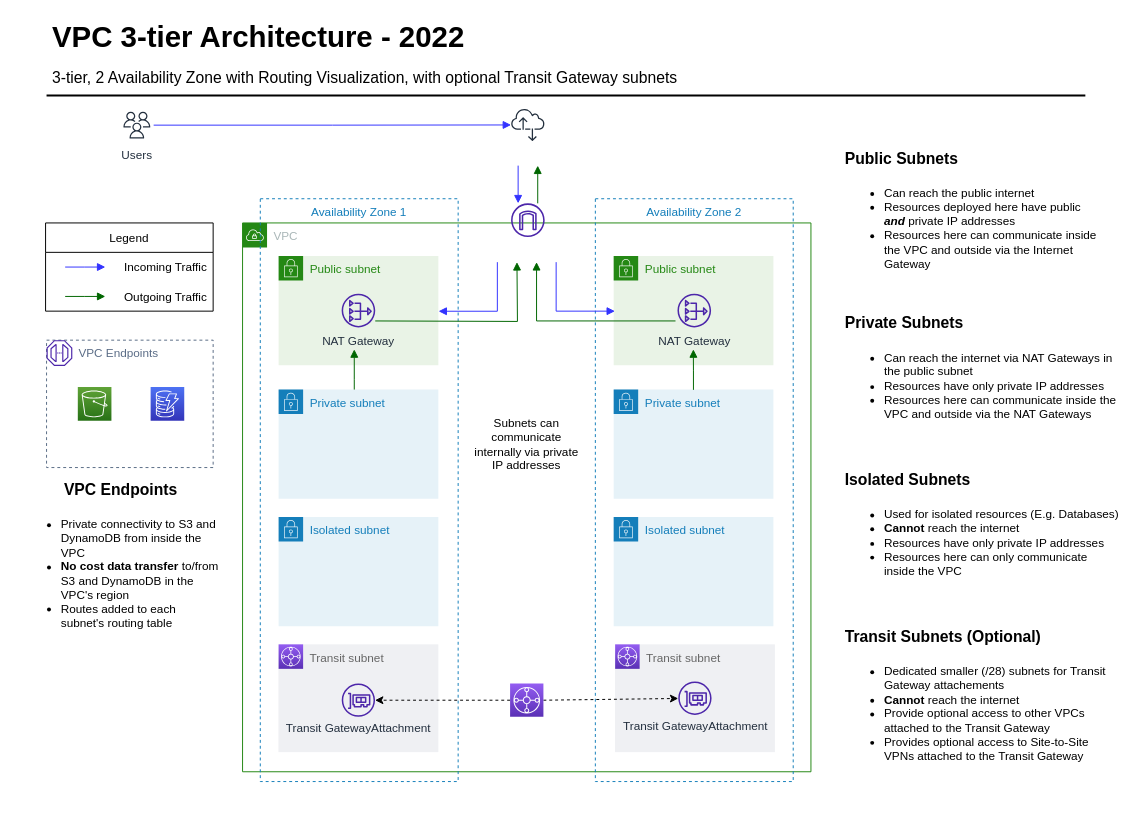
Image size: 1141x817. Some labels were removed from this diagram. Here are the shapes that lost their labels. From the top down, the centre of each, then its label:
At (x=527, y=124): "Internet".
At (x=527, y=219): "Internet Gateway".
At (x=94, y=403): "S3".
At (x=167, y=403): "DynamoDB".
At (x=526, y=700): "Transit Gateway".
